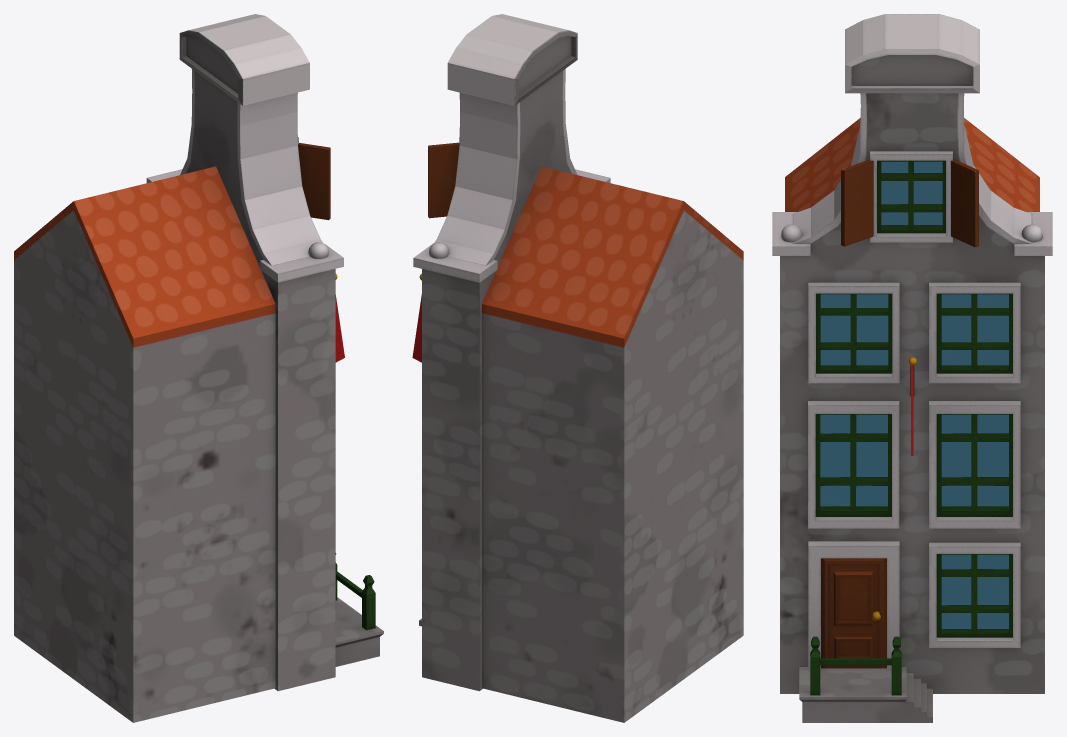
3 views of the same model, side by side, from view 1: azimuth 30°, elevation 25°; view 2: azimuth 150°, elevation 25°; view 3: azimuth 270°, elevation 25° (orthographic). The views are drawn at different scales.
Parts seen in each view (by area): view 1: pCube39; view 2: pCube39; view 3: pCube39.
Part boxes in pixels (x1=…): pCube39: x1=14, y1=14, x2=383, y2=722; pCube39: x1=412, y1=14, x2=743, y2=722; pCube39: x1=772, y1=14, x2=1052, y2=722.
Bounding box in the file's own units: 5.14 × 10.99 × 4.31.
Materials: 1 (1 with a texture image).
